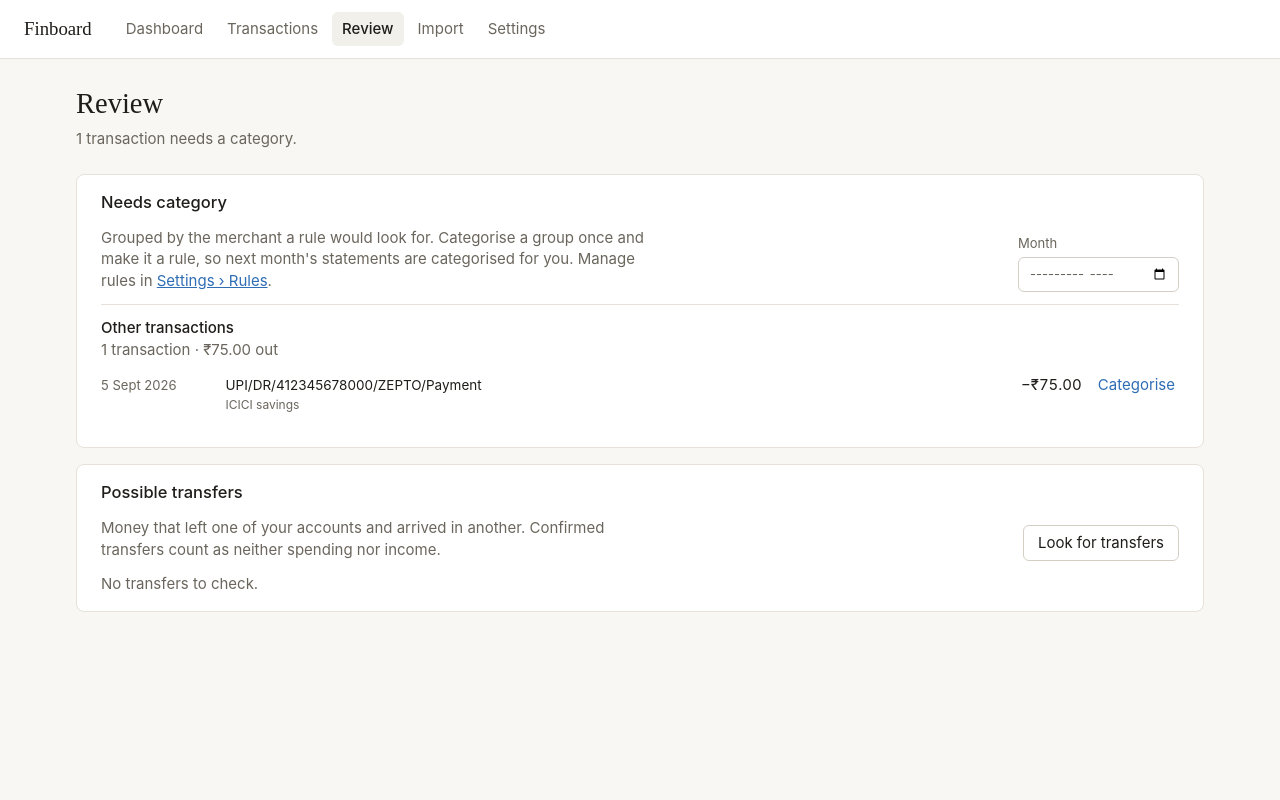
it: Suggestions in the categorise dialog › shows the suggestion with its examples, and Accept categorises by hand
Click the button with aria-label "Categorise UPI".
click(1136, 385)  # box [1094,374,1179,396]
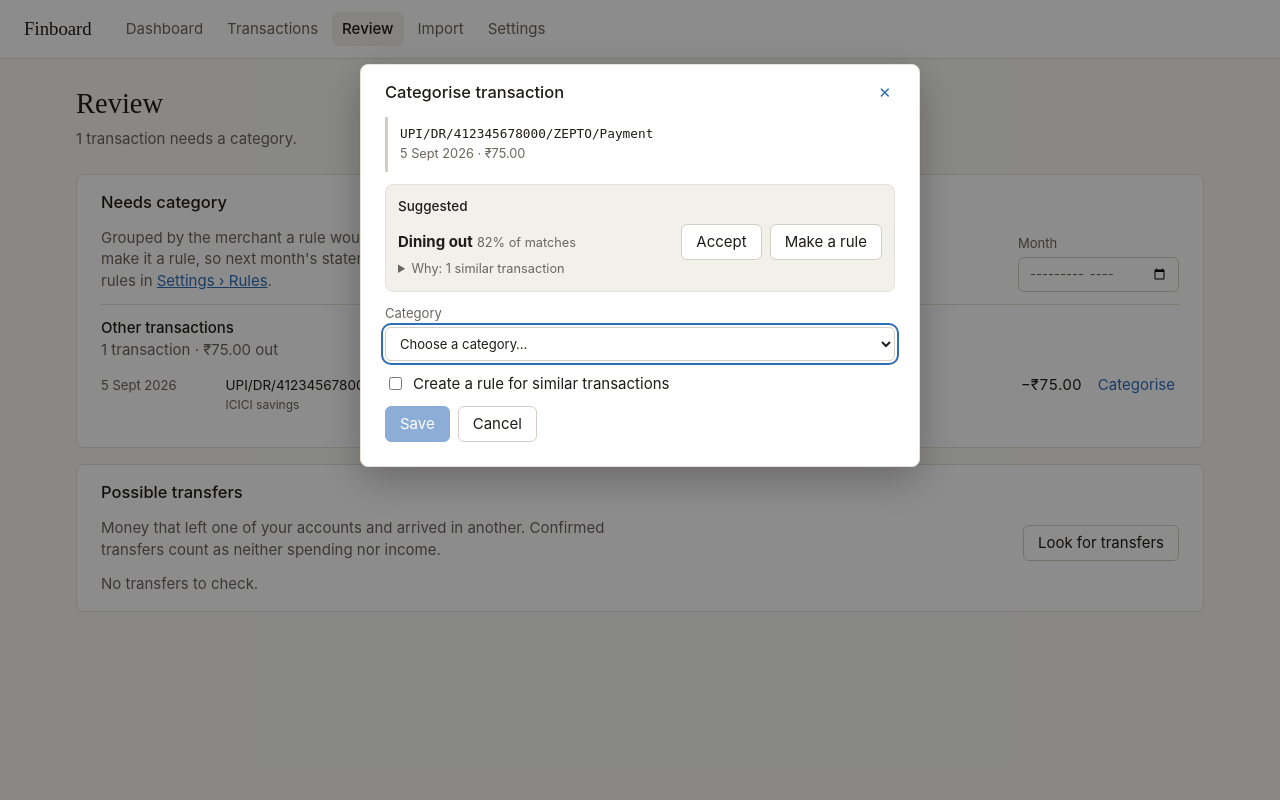
Click the heading "Why: 1 similar transaction".
click(488, 269)  # box [412,261,565,276]
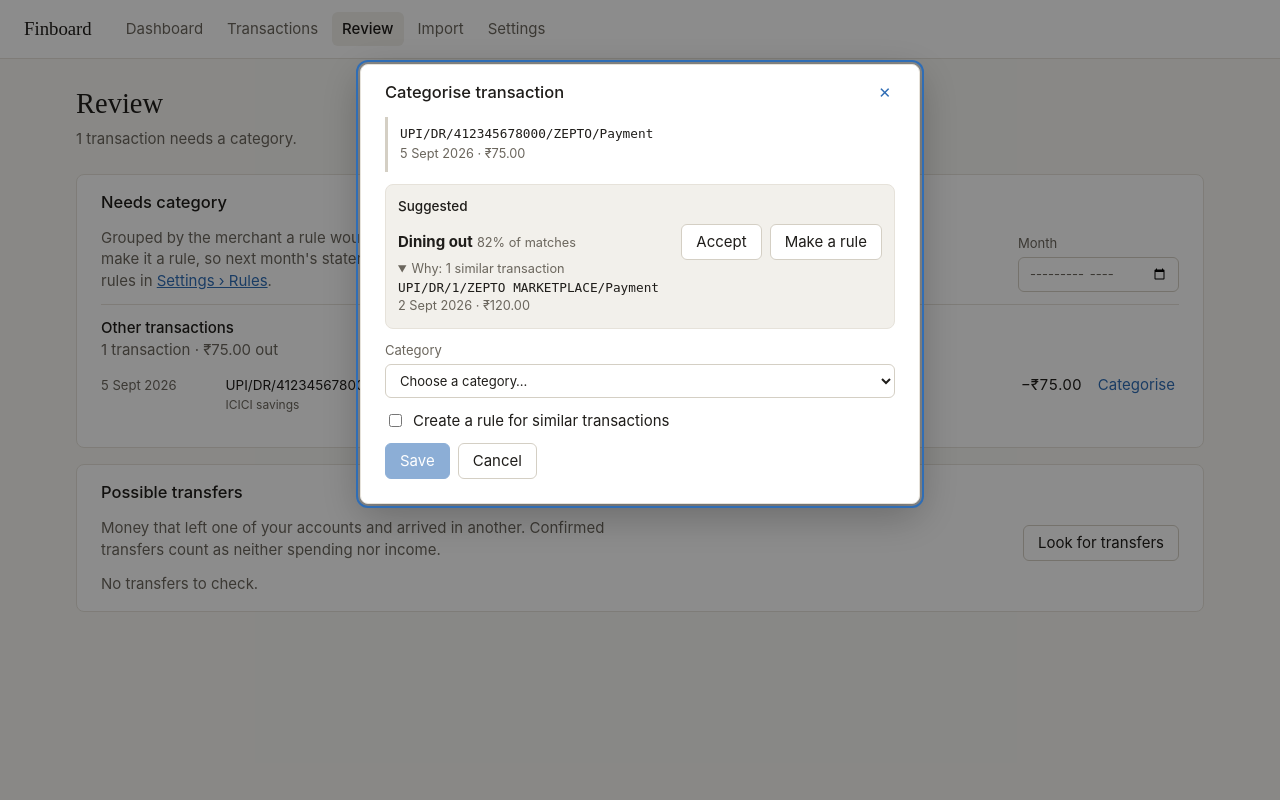
Result: the element named "Suggested categories" shows "UPI/DR/1/ZEPTO MARKETPLACE/Payment" at [398,280,659,295]
Click the button "Accept".
click(721, 242)  # box [681,224,762,260]
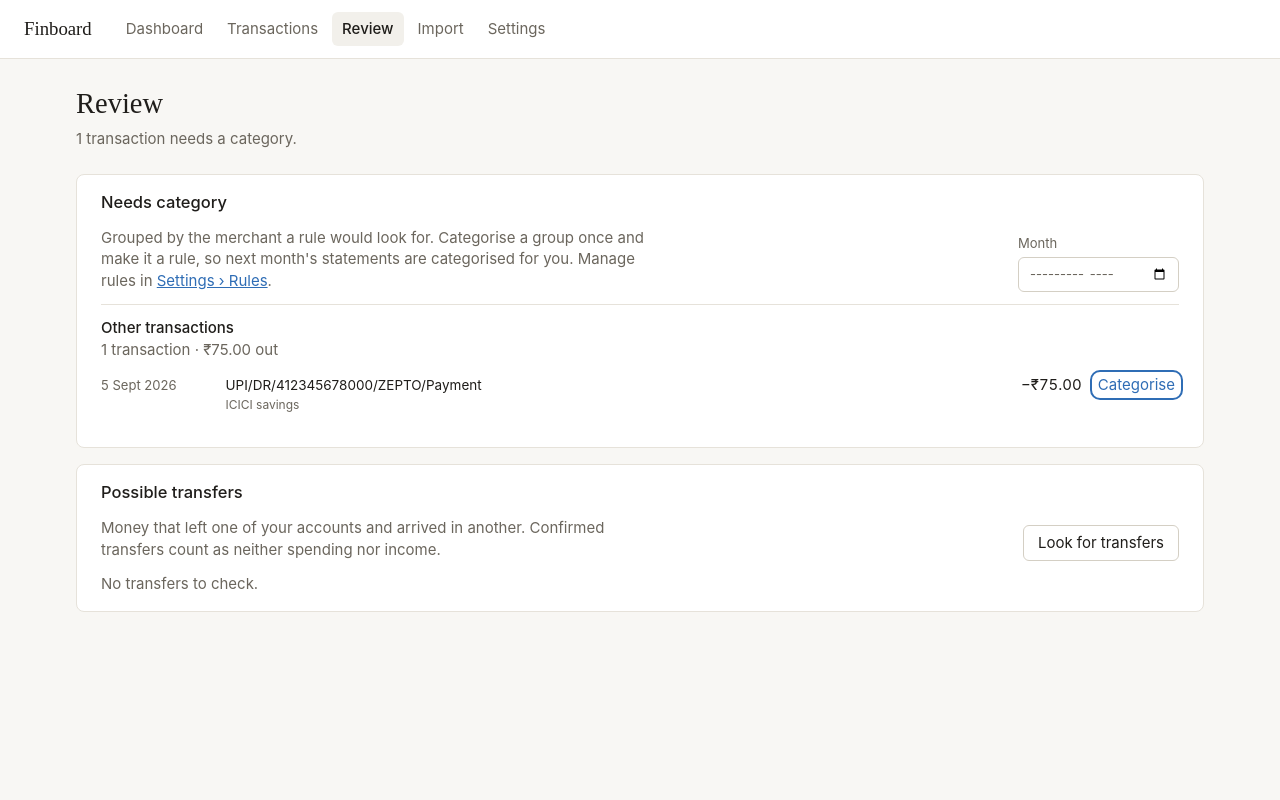
Result: the dialog is gone
